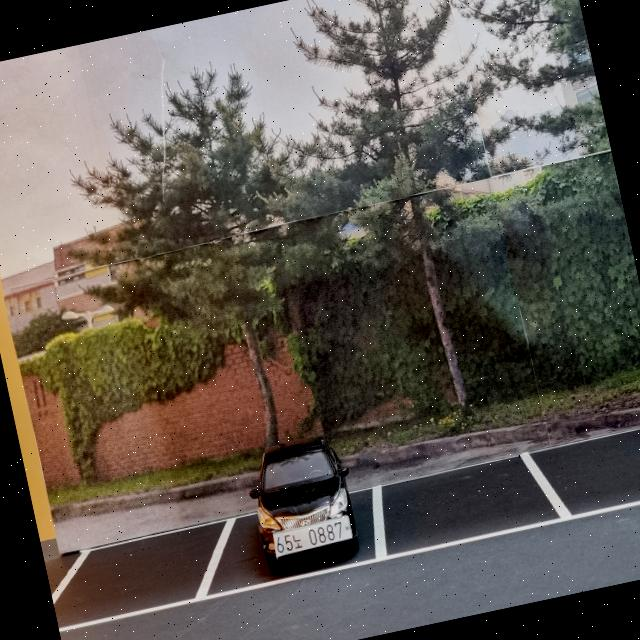empty: (364, 448, 552, 563), (49, 520, 238, 625), (523, 425, 640, 535)
occupied: (214, 424, 376, 592)
